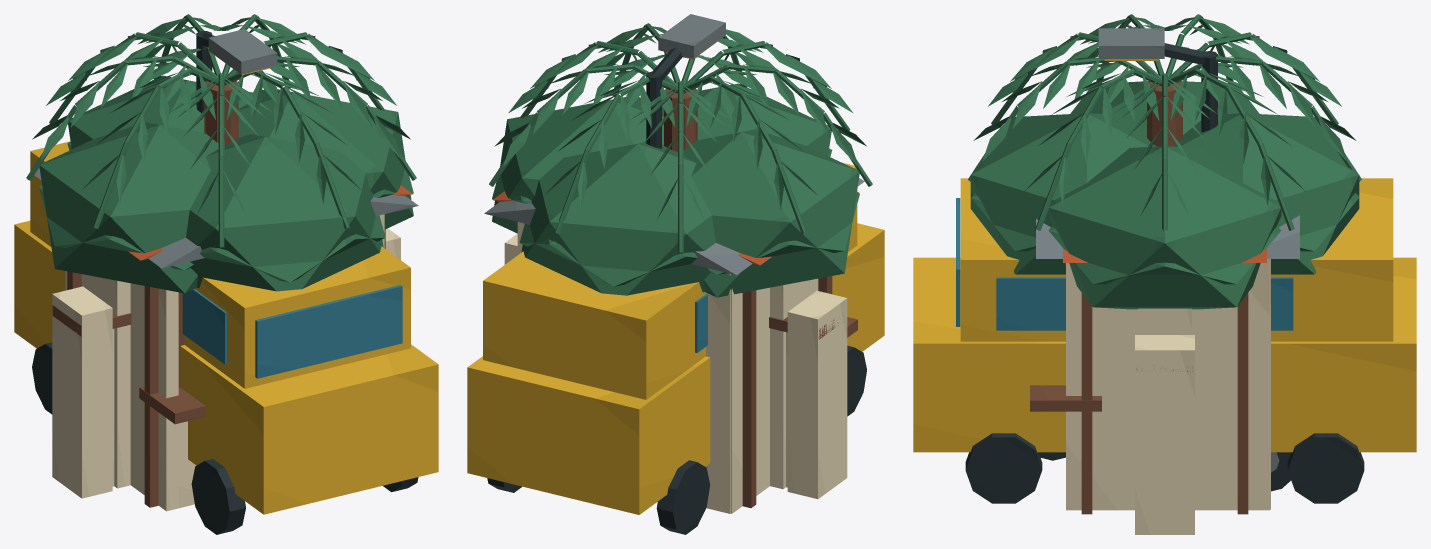
The model's file is gulf-guinea.glb.
3 views of the same model, side by side, from view 1: azimuth 30°, elevation 25°; view 2: azimuth 150°, elevation 25°; view 3: azimuth 270°, elevation 25° (orthographic). The views are drawn at different scales.
Parts seen in each view (by area): view 1: minibus, broadleaf-tree, palm, wall, kiosk, gate, canopy, acacia, street-lamp; view 2: minibus, broadleaf-tree, palm, kiosk, wall, canopy, gate, street-lamp, acacia; view 3: minibus, broadleaf-tree, kiosk, palm, wall, canopy, street-lamp, acacia, gate, three-wheeler.
Boxes of the visible parts, x1,y1,x2,y2 form: minibus: (14,141,438,534); broadleaf-tree: (39,75,413,293); palm: (26,14,416,247); wall: (52,228,400,498); kiosk: (34,168,418,511); gate: (90,276,130,488); canopy: (40,185,412,507); acacia: (39,142,413,282); street-lamp: (196,29,277,112); minibus: (467,162,884,534); broadleaf-tree: (492,83,859,297); palm: (489,23,872,252); kiosk: (484,178,864,513); wall: (504,233,847,499); canopy: (493,191,859,507); gate: (770,280,809,489); street-lamp: (646,14,725,148); acacia: (492,148,859,286); minibus: (913,178,1416,503); broadleaf-tree: (970,81,1359,309); kiosk: (1030,215,1299,510); palm: (968,14,1361,230); wall: (1135,335,1194,534); canopy: (1063,248,1266,514); street-lamp: (1098,28,1217,131); acacia: (970,193,1359,284); gate: (1138,308,1191,334); three-wheeler: (1038,452,1291,491).
Size of the model in its own units: 3.34 by 3.86 by 4.2.
1 material, 1 textured.
